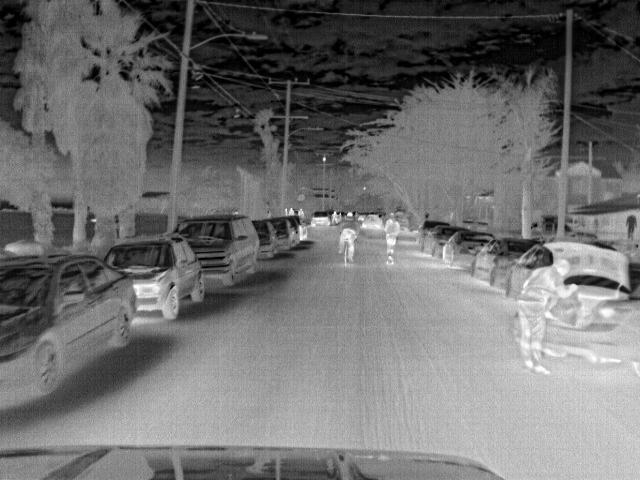car: (0, 255, 139, 397), (538, 238, 639, 362), (106, 238, 212, 323), (173, 214, 266, 290), (470, 237, 539, 283), (443, 233, 503, 268), (421, 225, 463, 255), (432, 225, 466, 258), (413, 220, 447, 250), (254, 220, 278, 262), (269, 218, 297, 250), (290, 218, 307, 241), (309, 210, 329, 227)
person: (517, 258, 578, 375), (337, 212, 359, 262), (381, 213, 399, 262), (328, 209, 341, 225), (294, 207, 306, 224)
